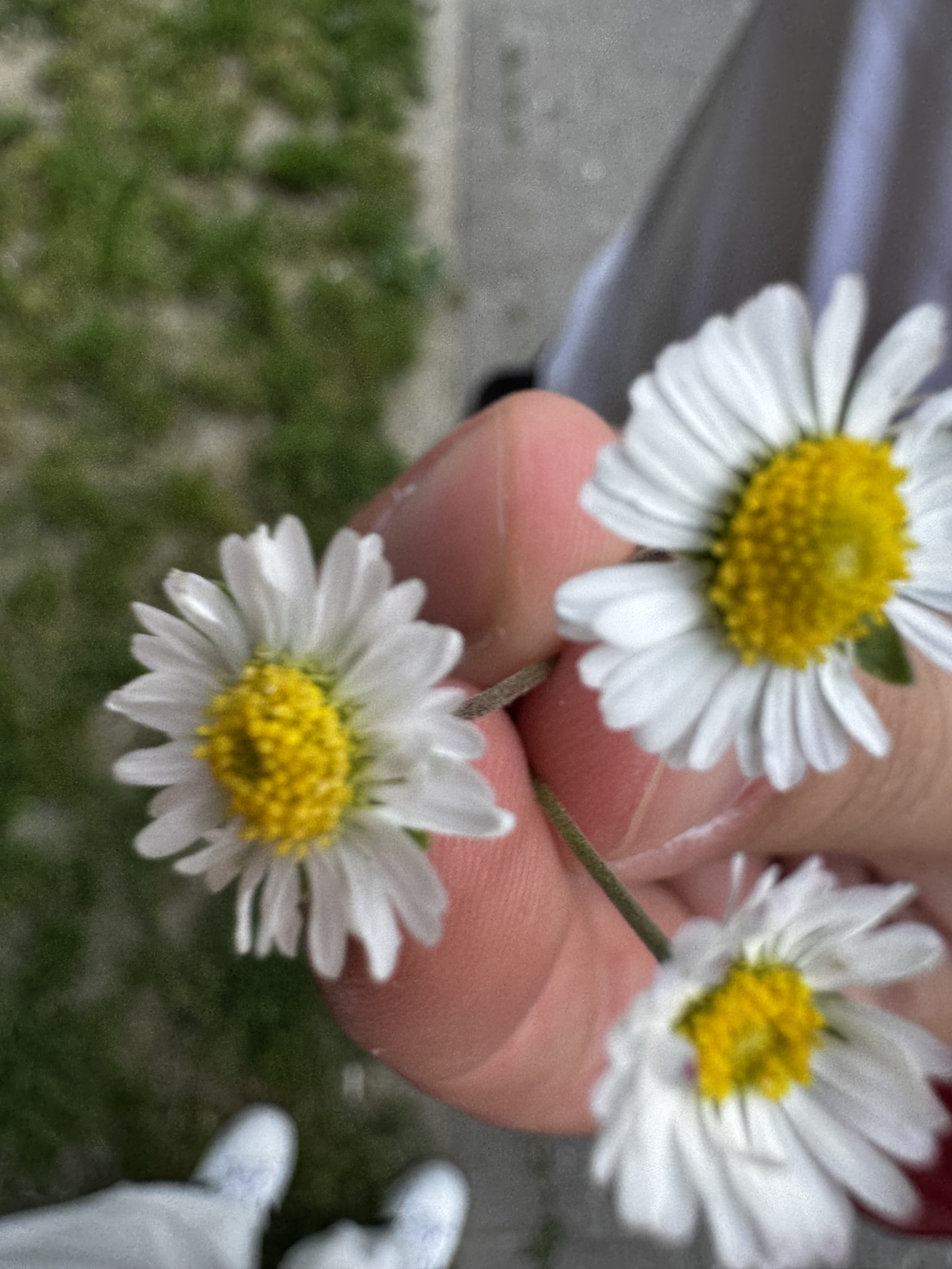daisy: (536, 266, 952, 799), (95, 511, 488, 979), (572, 857, 952, 1254)
